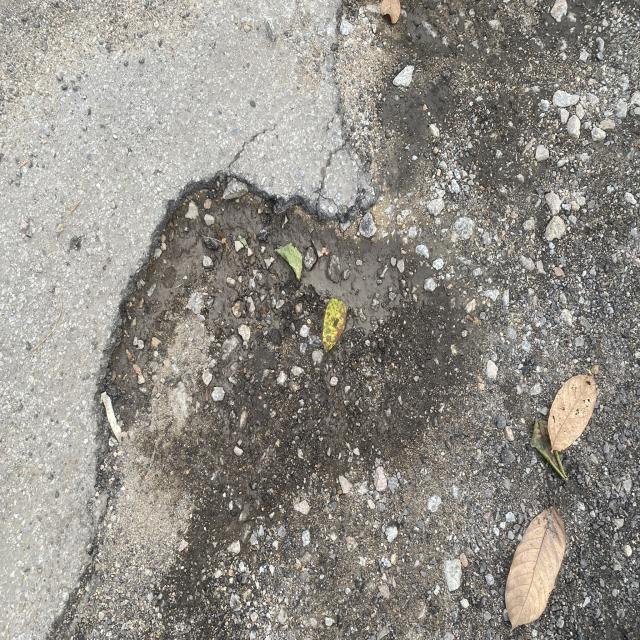Pothole: (83, 111, 346, 554)
